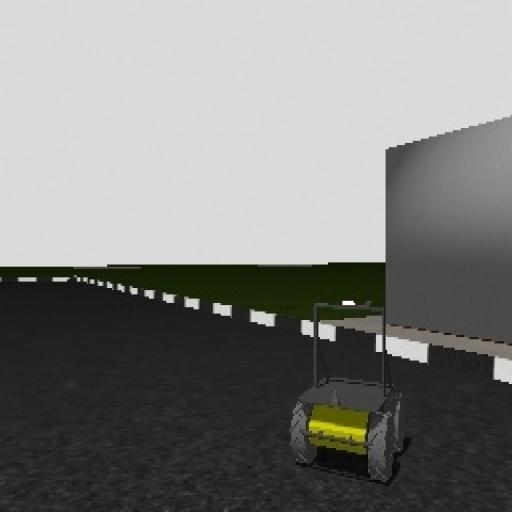huskya200: (282, 290, 410, 496)
